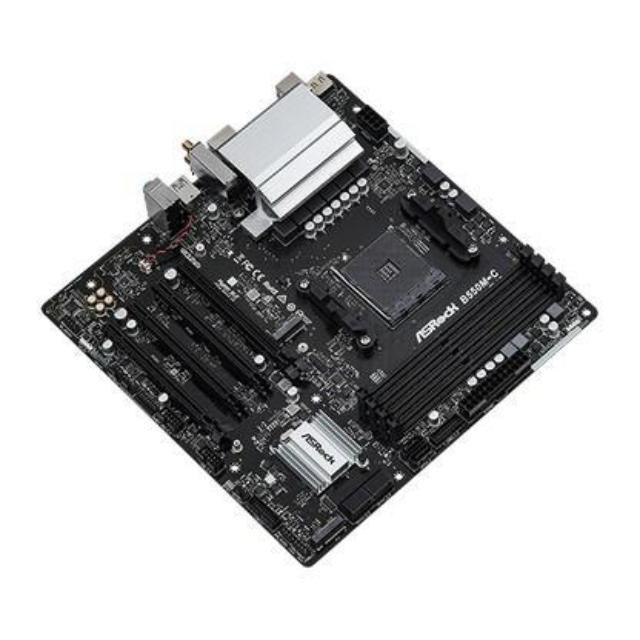Mainboard: (34, 43, 612, 568)
